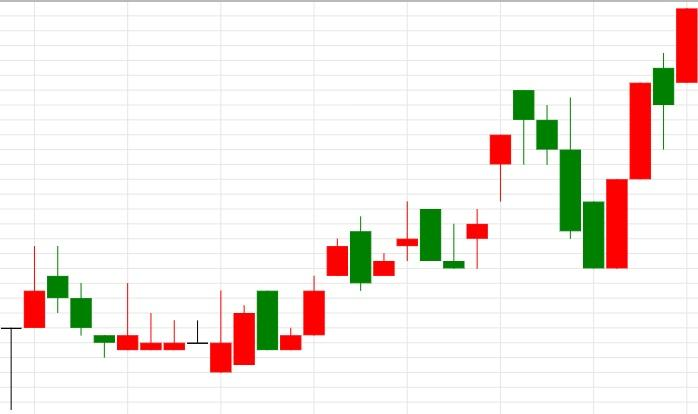bearish_engulfing_fall: (280, 216, 371, 350)
bullish_engulfing_rise: (513, 91, 628, 269)
hanging_man_fall: (443, 91, 535, 269)
